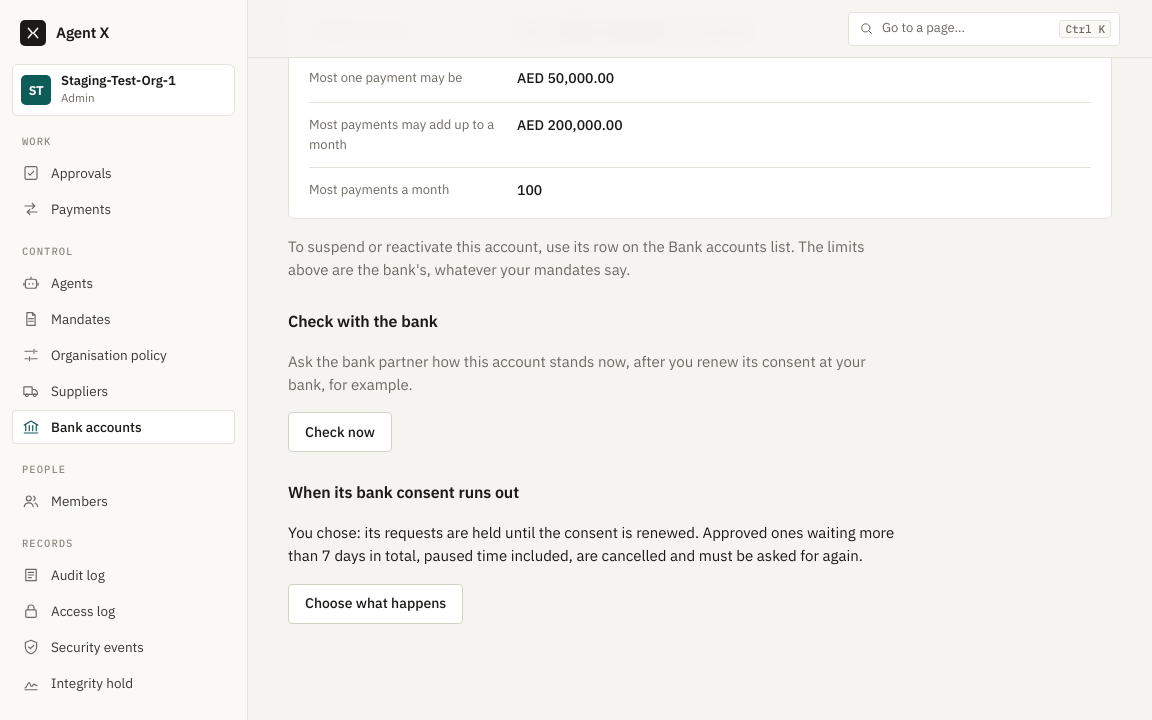
Test: checking an account with the bank (6D4a) › says the partner not answering plainly
This screenshot has width=1152, height=720.
(page scrolled)
Click the button "Check now".
click(340, 432)  # box x1=288 y1=412 x2=392 y2=452
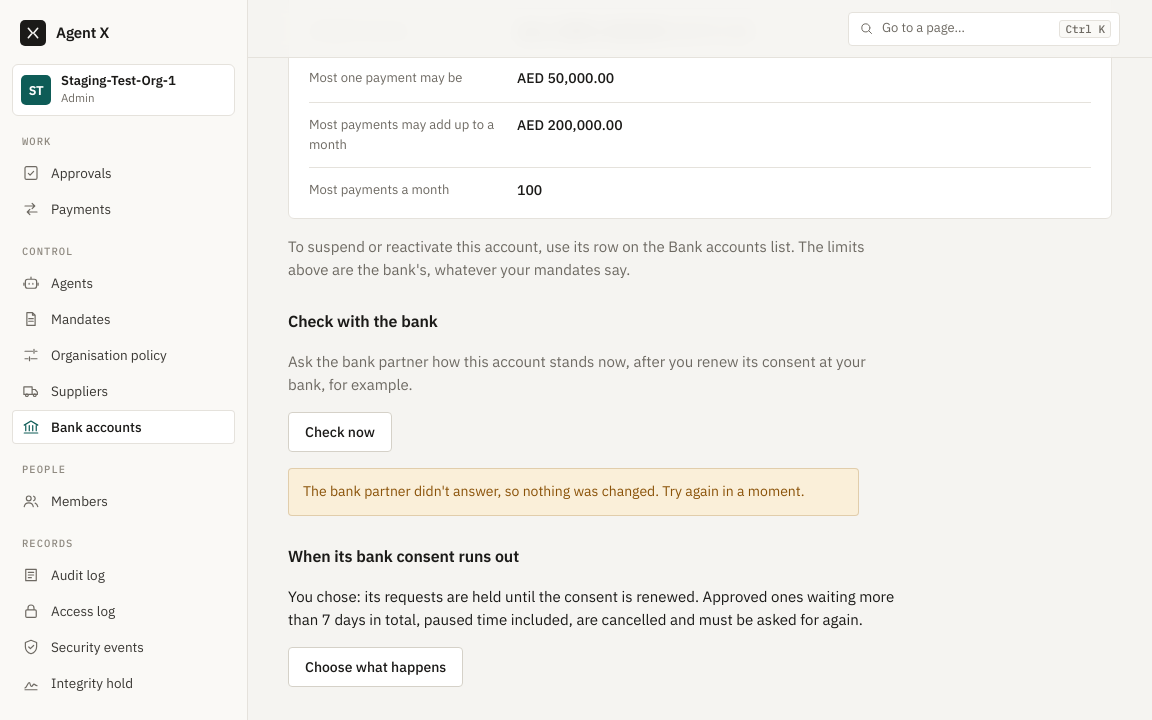
Now the text "The bank partner didn't answer, so nothing was changed. Try again in a moment." is shown, box x1=288 y1=468 x2=859 y2=516
